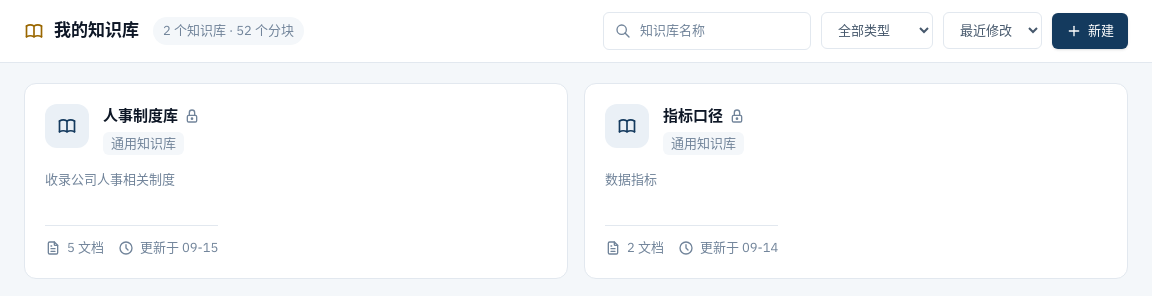
Scenario: KnowledgeView › 搜索框输入后过滤卡片列表
Check: the text "人事制度库" is shown, box 103,104 -> 178,128
Type "指标" into the field with placeholder "知识库名称".
click(707, 31); type("指标")  # box 603,12 -> 811,50
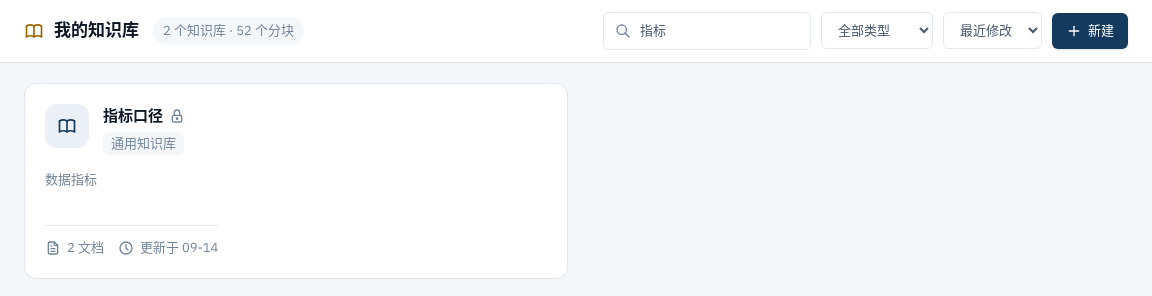
Check: the text "指标口径" is shown, box 103,104 -> 163,128
Check: the button "人事制度库" is gone
